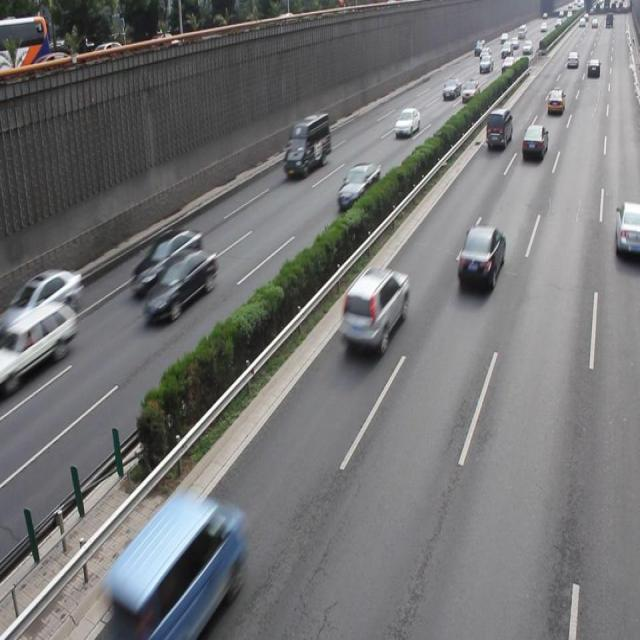car: (115, 492, 243, 640), (1, 299, 77, 382), (340, 266, 408, 353), (143, 246, 216, 322), (130, 224, 202, 294), (12, 268, 82, 327), (455, 223, 504, 291), (337, 160, 379, 209), (613, 201, 640, 260)
truck: (282, 112, 330, 178)
